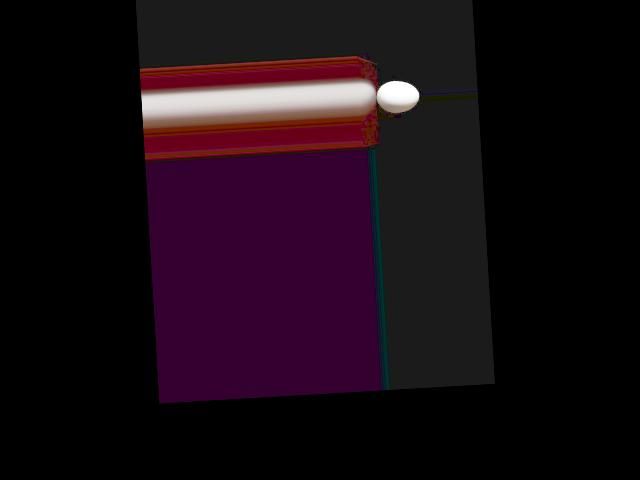egg: (375, 79, 419, 113)
